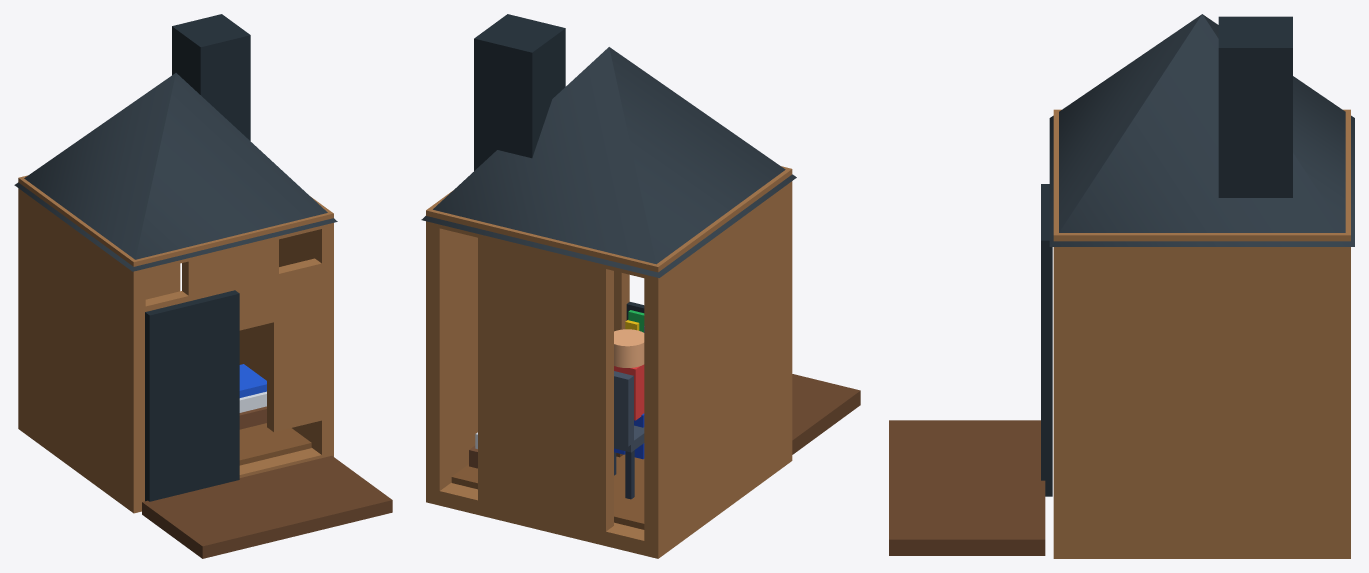
The model's file is bath-android.glb.
3 views of the same model, side by side, from view 1: azimuth 30°, elevation 25°; view 2: azimuth 150°, elevation 25°; view 3: azimuth 270°, elevation 25° (orthographic). The views are drawn at different scales.
Visible parts, largest first — view 1: roof, left wall, door, deck, front right wall, chimney, front lintel, right wall, ceiling ring, floor ring, floor, bed on floor (+2 smaller); view 2: left wall, roof, back wall, right wall, chimney, floor ring, ceiling ring, deck, chair, floor, person playing, front right wall; view 3: right wall, roof, deck, chimney, ceiling ring, floor ring, door.
Part boxes in pixels (bbox=[...]): roof: bbox=[14, 73, 337, 271]; left wall: bbox=[18, 177, 145, 500]; door: bbox=[145, 290, 239, 501]; deck: bbox=[142, 455, 392, 558]; front right wall: bbox=[267, 258, 328, 431]; chimney: bbox=[172, 14, 250, 140]; front lintel: bbox=[182, 225, 278, 330]; right wall: bbox=[239, 196, 333, 456]; ceiling ring: bbox=[18, 175, 333, 274]; floor ring: bbox=[18, 416, 333, 513]; floor: bbox=[239, 423, 311, 465]; bed on floor: bbox=[239, 364, 266, 429]; left wall: bbox=[644, 166, 792, 557]; roof: bbox=[421, 47, 796, 277]; back wall: bbox=[478, 221, 613, 531]; right wall: bbox=[426, 191, 477, 505]; chimney: bbox=[474, 14, 565, 170]; floor ring: bbox=[426, 446, 792, 558]; ceiling ring: bbox=[426, 168, 792, 281]; deck: bbox=[792, 374, 860, 454]; chair: bbox=[614, 371, 644, 499]; floor: bbox=[451, 454, 644, 529]; person playing: bbox=[614, 329, 644, 459]; front right wall: bbox=[614, 271, 629, 331]; right wall: bbox=[1053, 227, 1350, 542]; roof: bbox=[1049, 14, 1354, 246]; deck: bbox=[889, 420, 1045, 555]; chimney: bbox=[1218, 16, 1292, 197]; ceiling ring: bbox=[1053, 117, 1350, 251]; floor ring: bbox=[1053, 542, 1350, 558]; door: bbox=[1041, 184, 1052, 496].
Bounding box in the file's own units: 1.27 × 2.29 × 1.94.
